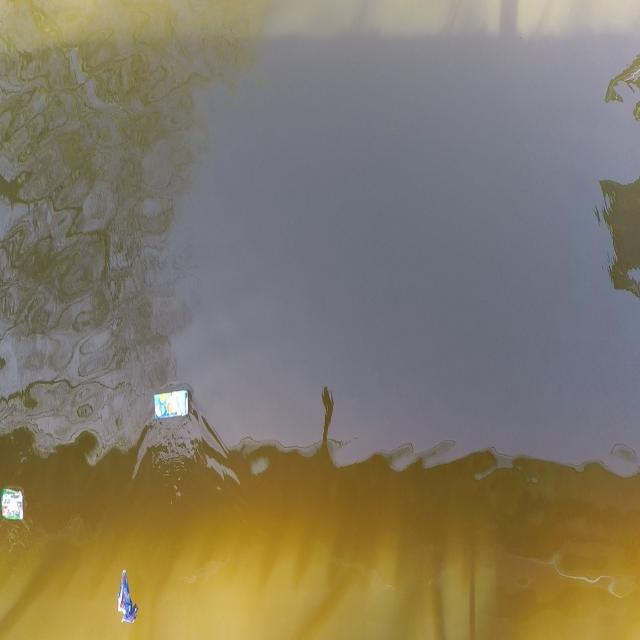Autre plastique: (153, 391, 192, 424)
